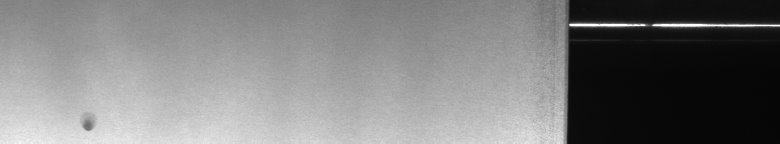fi: (76, 116, 100, 136)
